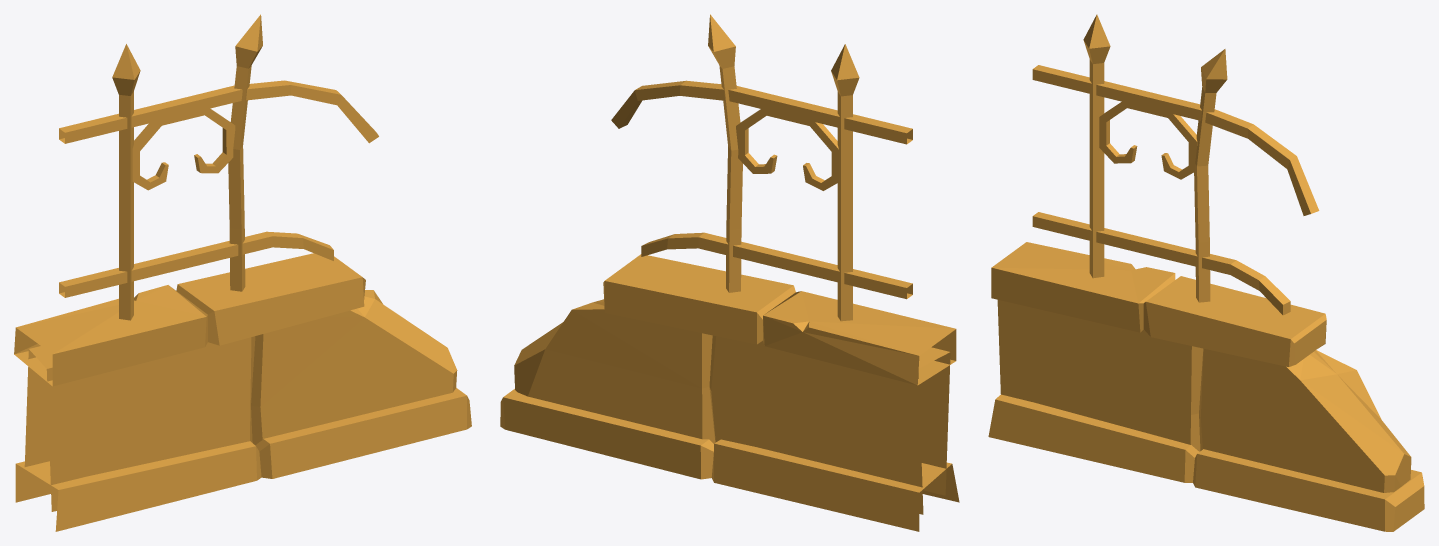
File: wall-graveyard-end.fbx
The picture shows the model from 3 angles, left to right: view 1: azimuth 30°, elevation 25°; view 2: azimuth 150°, elevation 25°; view 3: azimuth 330°, elevation 25°; orthographic projection. The views are drawn at different scales.
Visible parts, largest first — view 1: wall-graveyard-end; view 2: wall-graveyard-end; view 3: wall-graveyard-end.
Part boxes in pixels (x1,y1,x2,y2): wall-graveyard-end: [14, 14, 471, 531]; wall-graveyard-end: [500, 14, 959, 531]; wall-graveyard-end: [988, 14, 1424, 531].
Bounding box in the file's own units: 1.33 × 1.37 × 0.229.
